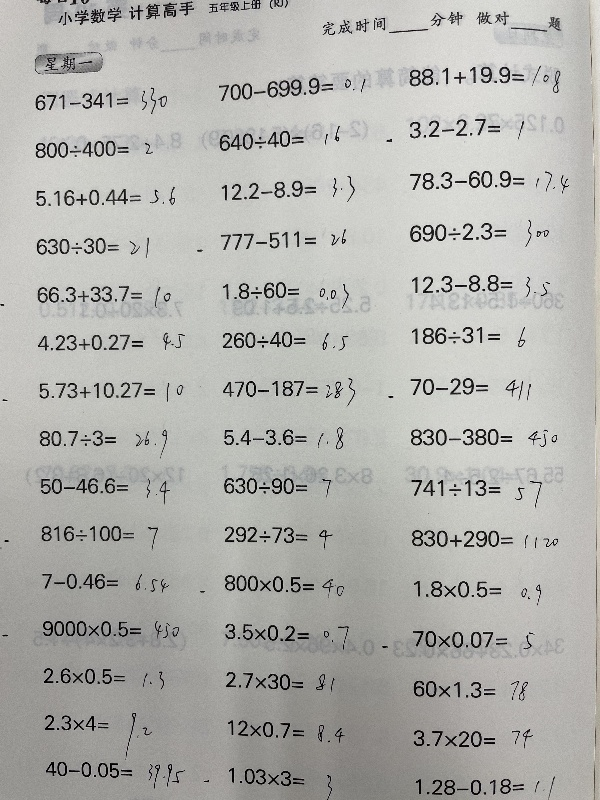equation: (40, 710, 163, 756), (44, 753, 188, 792), (404, 58, 563, 93), (407, 475, 544, 513), (218, 373, 359, 409), (410, 576, 544, 613), (405, 165, 571, 194), (31, 83, 171, 117), (36, 473, 171, 507), (406, 424, 559, 454), (404, 218, 551, 249), (218, 277, 351, 311), (217, 326, 354, 358), (412, 771, 559, 800), (406, 269, 552, 298), (220, 619, 351, 651), (35, 426, 170, 457), (38, 663, 168, 695), (217, 176, 359, 205), (223, 763, 334, 800), (35, 378, 187, 405), (407, 373, 534, 405), (34, 330, 187, 356), (37, 569, 174, 598), (32, 280, 173, 308), (220, 422, 347, 453), (406, 525, 561, 550), (216, 227, 354, 255), (215, 74, 369, 99), (31, 182, 178, 208), (407, 322, 530, 353), (38, 616, 183, 642), (36, 520, 161, 550), (404, 114, 529, 144), (219, 570, 347, 599), (214, 125, 349, 152), (408, 725, 535, 752), (408, 626, 535, 653), (219, 473, 338, 501), (31, 232, 152, 259), (223, 717, 347, 742), (220, 520, 334, 547), (408, 676, 531, 701), (30, 136, 153, 161), (221, 667, 337, 693)
